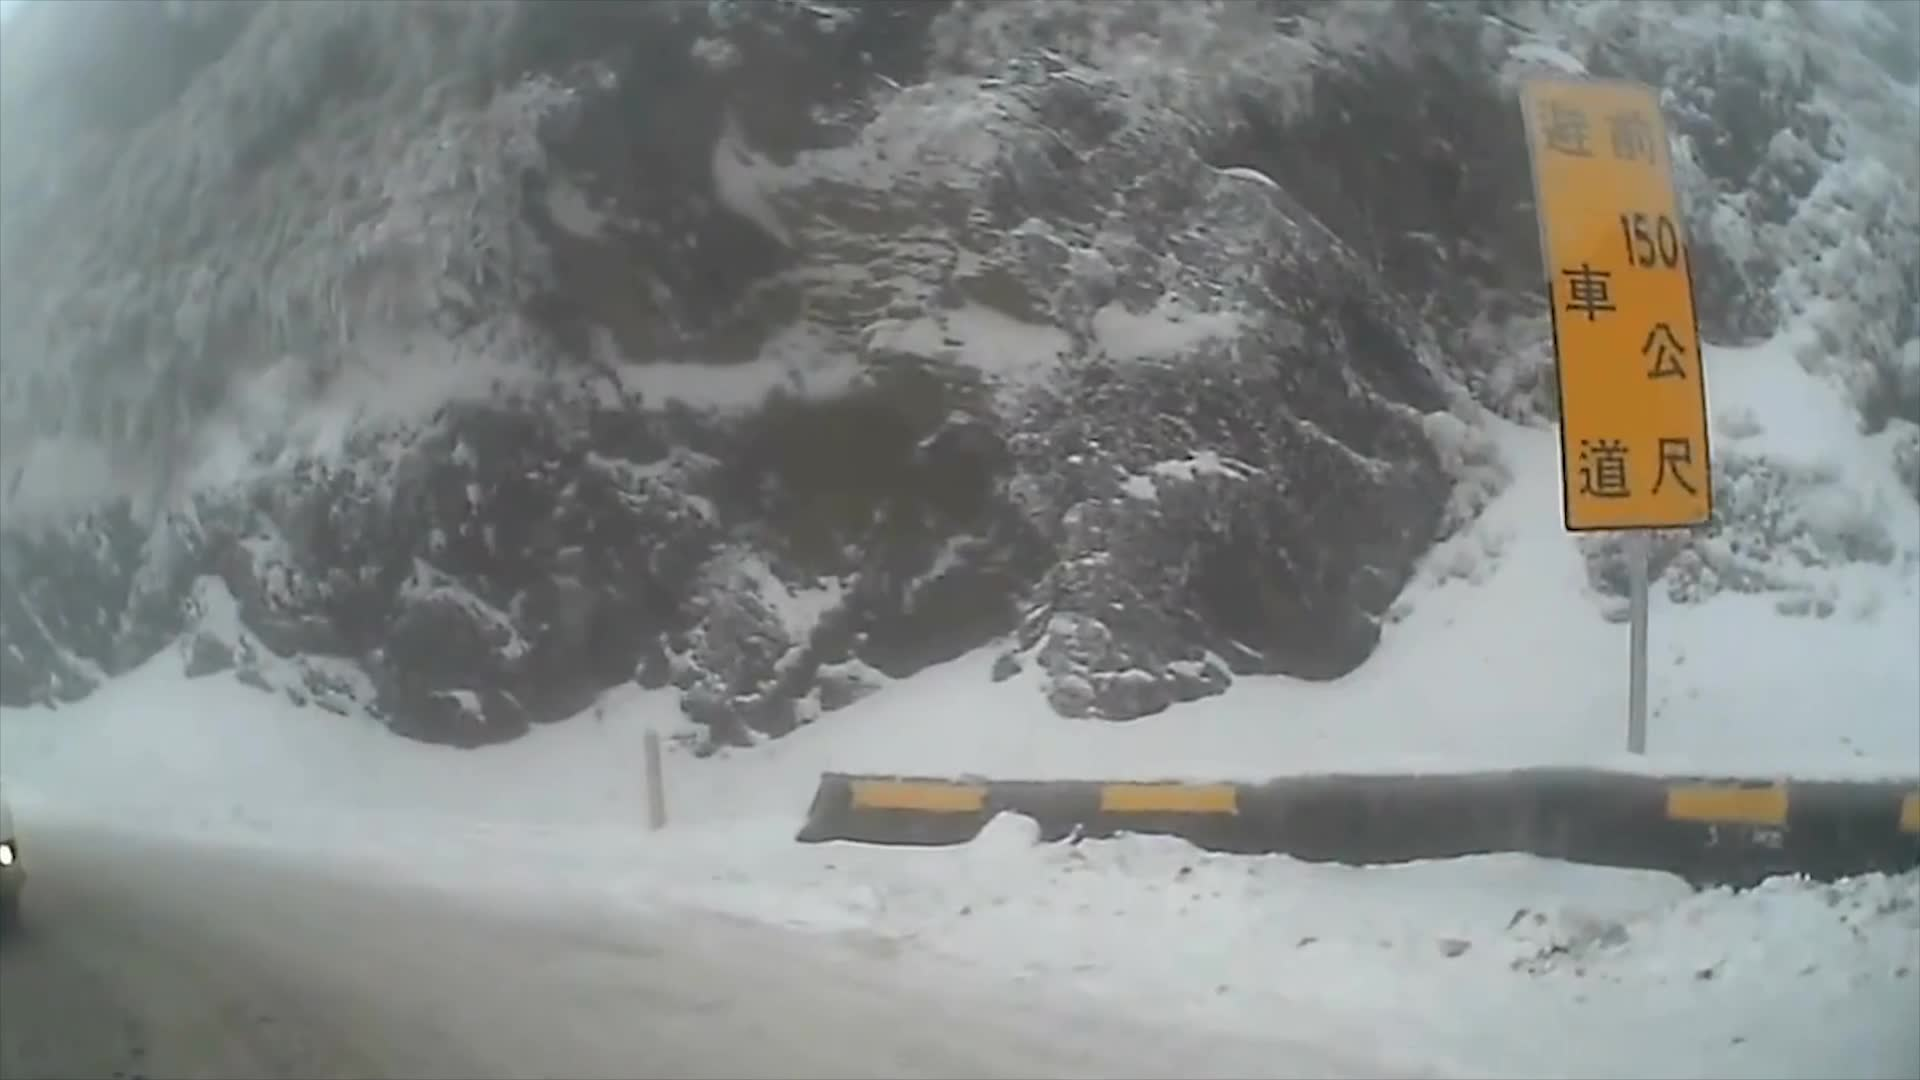vehicle: (0, 793, 26, 924)
